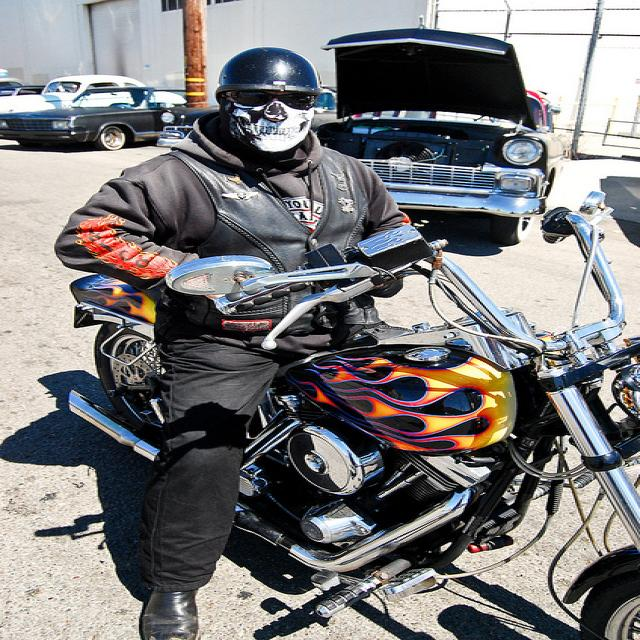motor: (67, 203, 640, 630)
